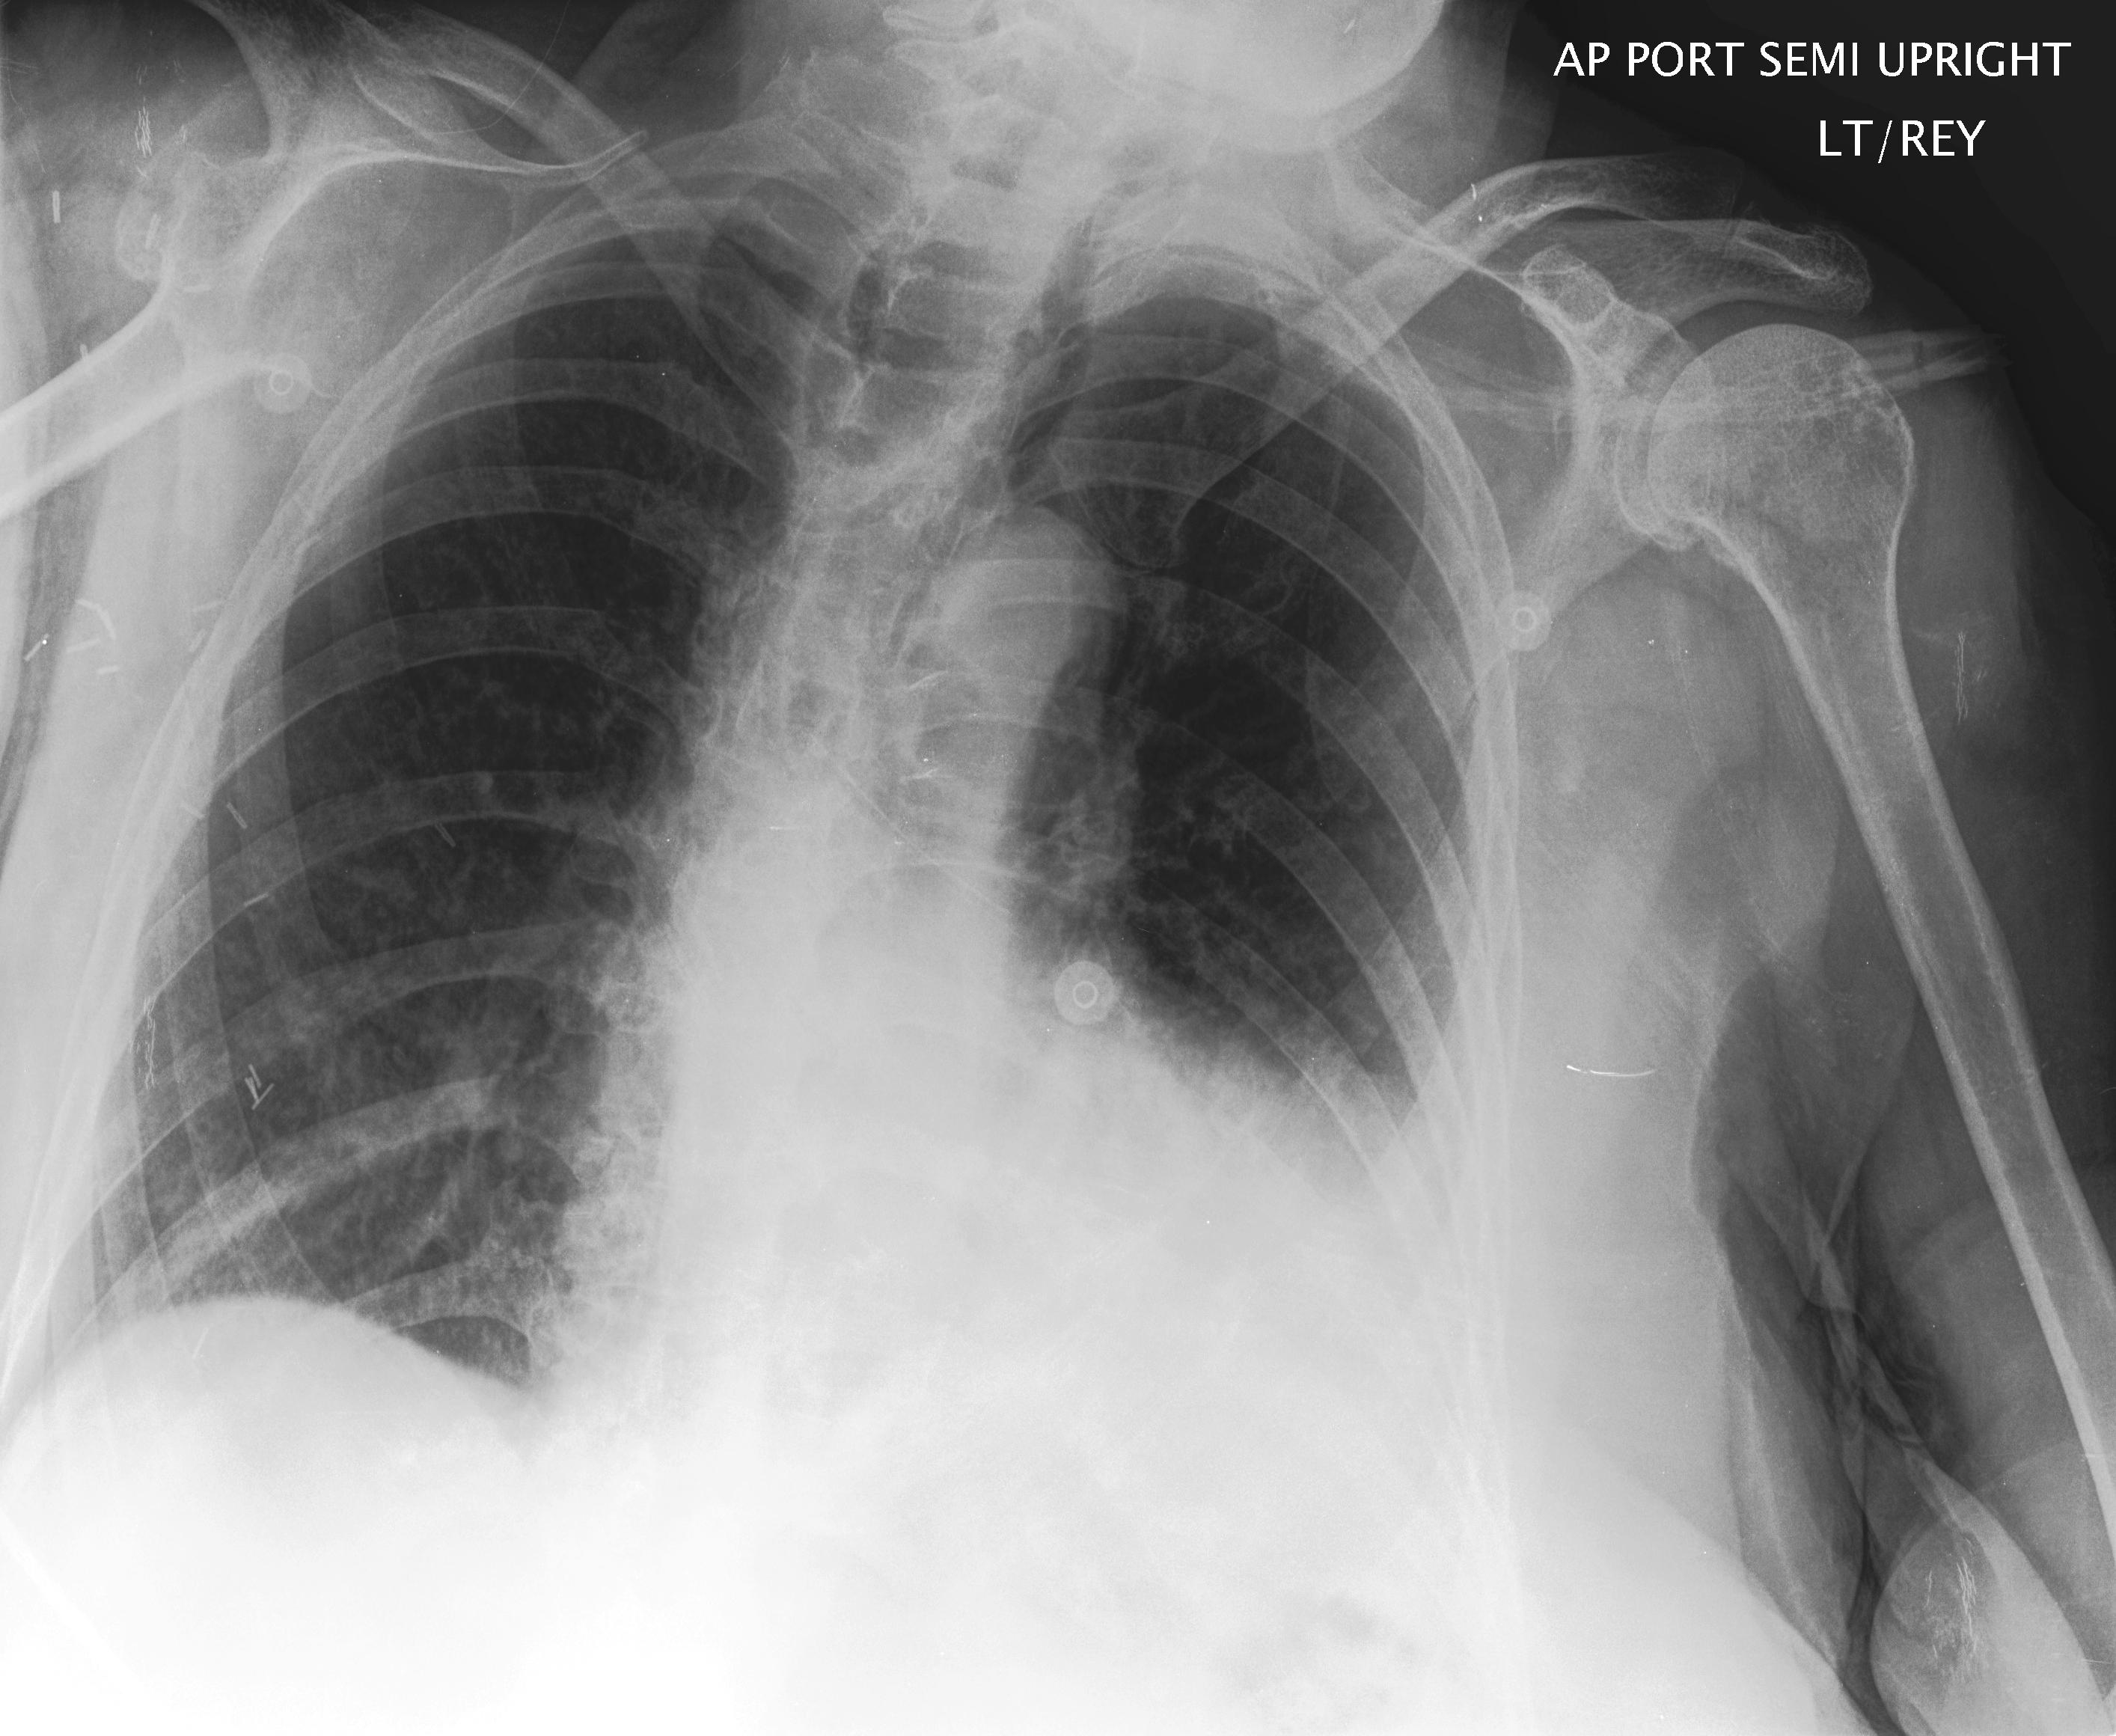Pleural Effusion: (1093, 1019, 1562, 1483)
